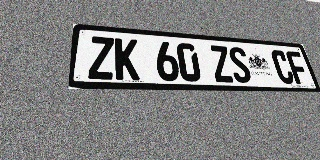0: (176, 43, 202, 82)
6: (155, 41, 180, 81)
C: (270, 50, 296, 84)
F: (285, 51, 311, 84)
K: (115, 38, 140, 80)
S: (227, 46, 253, 83)
Z: (88, 36, 114, 80), (209, 45, 235, 83)
